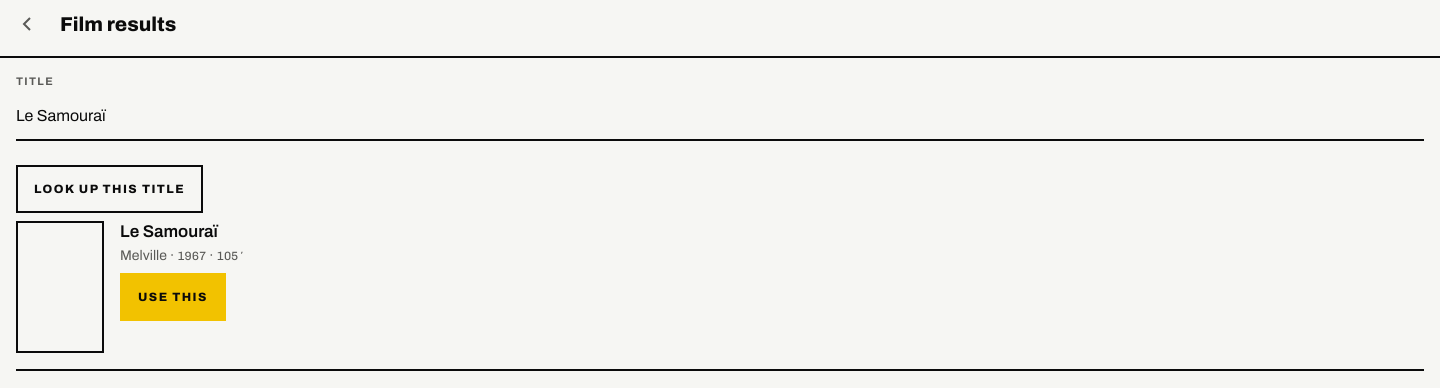
VideoDetectionResults › a retry after a failed re-search fetches again instead of re-serving the tagged candidates
Replace the text in the field labelled "Title" with "Le Trou" at point(720, 117), box [16,93,1424,141]
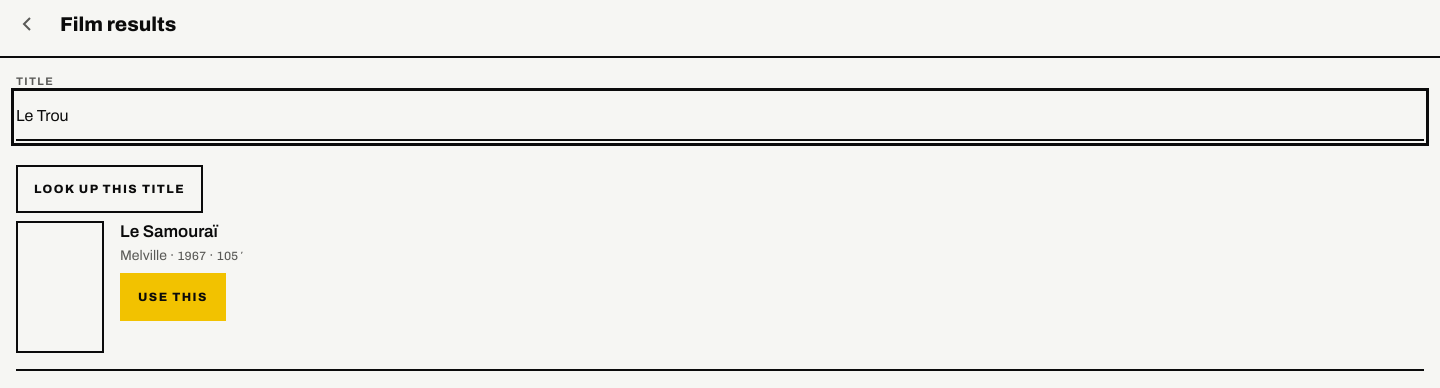
Click the button "Look up this title" at point(110, 189), box [16,165,203,213]
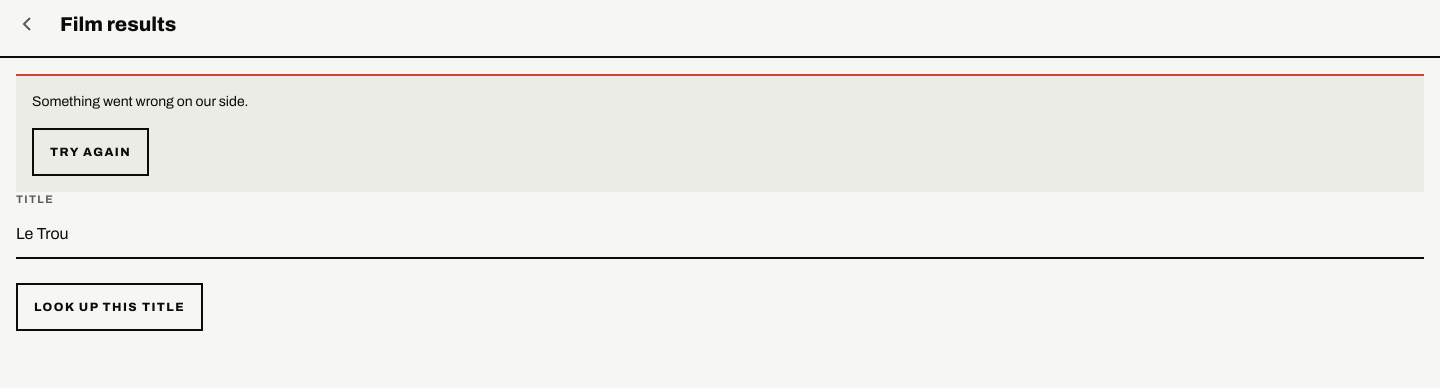
Expected: the message shows "Something went wrong", [32,94,248,109]
Click the button "Try again" at point(91, 152), box [32,128,149,176]
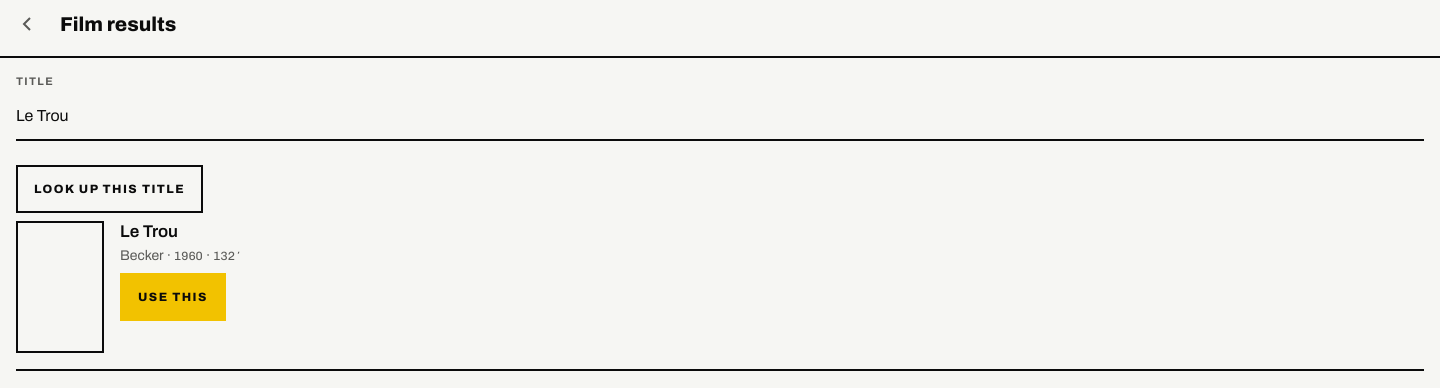
Expected: the text "Le Samouraï" is not shown
Expected: the text "Le Trou" is shown, [120,222,178,241]
